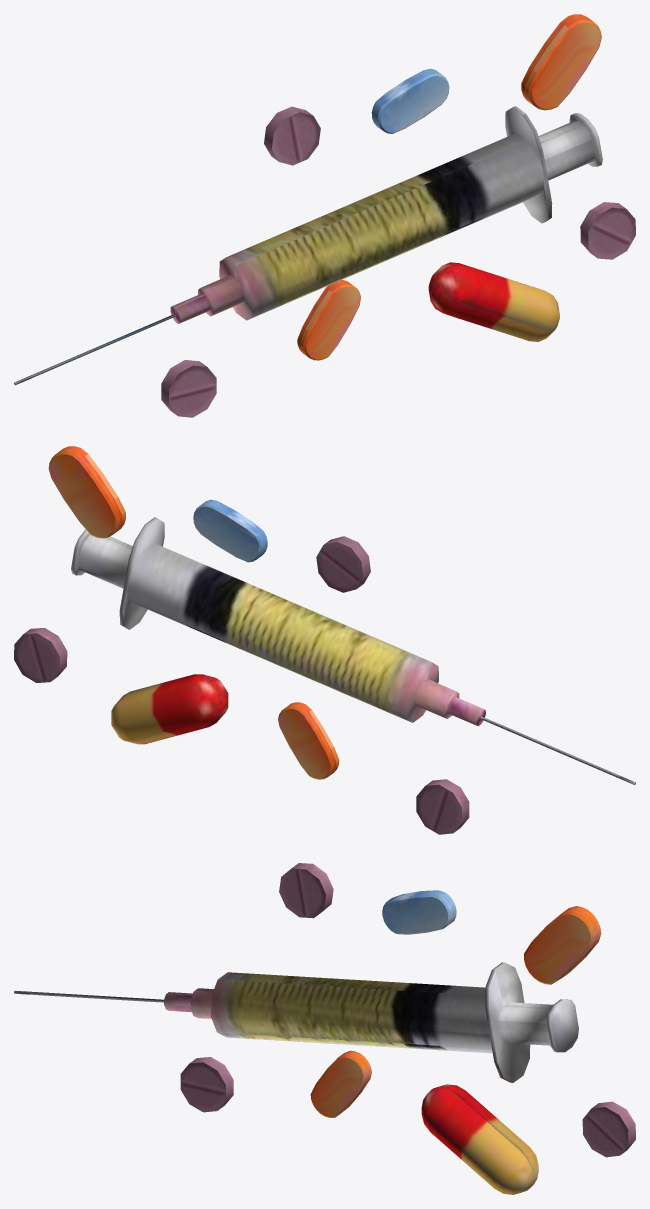
File: steroids.FBX
3 renders of one model, top to bottom at view 1: azimuth 30°, elevation 25°; view 2: azimuth 150°, elevation 25°; view 3: azimuth 330°, elevation 25°, orthographic. The views are drawn at different scales.
Visible parts, largest first — view 1: steroids; view 2: steroids; view 3: steroids.
Boxes of the visible parts, x1,y1,x2,y2 form: steroids: (14,14,635,417); steroids: (14,446,635,834); steroids: (14,863,635,1194).
Bounding box in the file's own units: 41.65 × 19.18 × 4.12.
